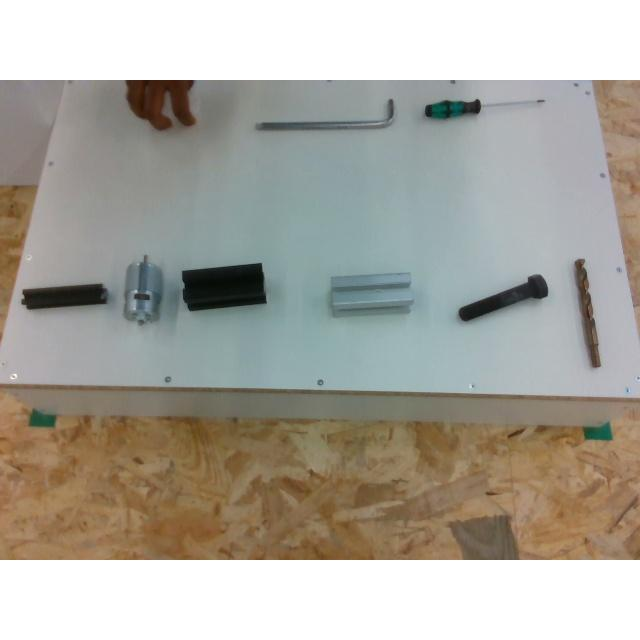AllenKey: (254, 98, 394, 128)
Drill: (573, 258, 603, 368)
F20_20_B: (21, 284, 107, 308)
M20_100: (457, 274, 547, 320)
Motor2: (124, 255, 160, 323)
S40_40_B: (182, 262, 266, 310)
S40_40_G: (330, 272, 410, 312), (330, 272, 410, 290)
Screwdriver: (424, 99, 544, 117)
